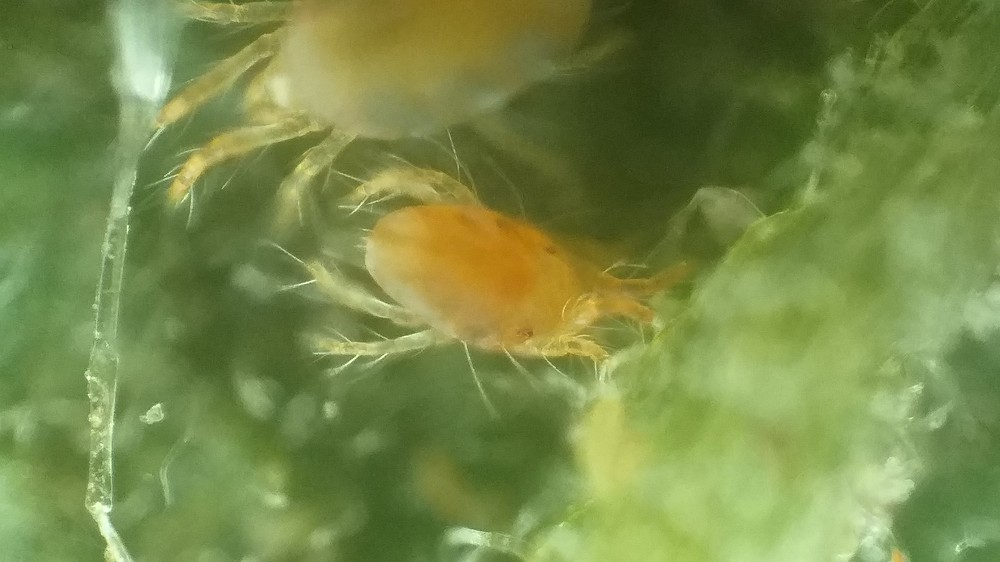Aracnido Rojo: (147, 1, 691, 230), (287, 166, 764, 394)
